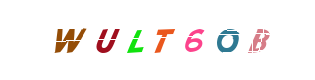6: (121, 0, 201, 80)
B: (188, 0, 268, 80)
L: (114, 0, 194, 80)
O: (168, 0, 248, 80)
T: (117, 0, 197, 80)
U: (95, 0, 175, 80)
W: (42, 0, 122, 80)
